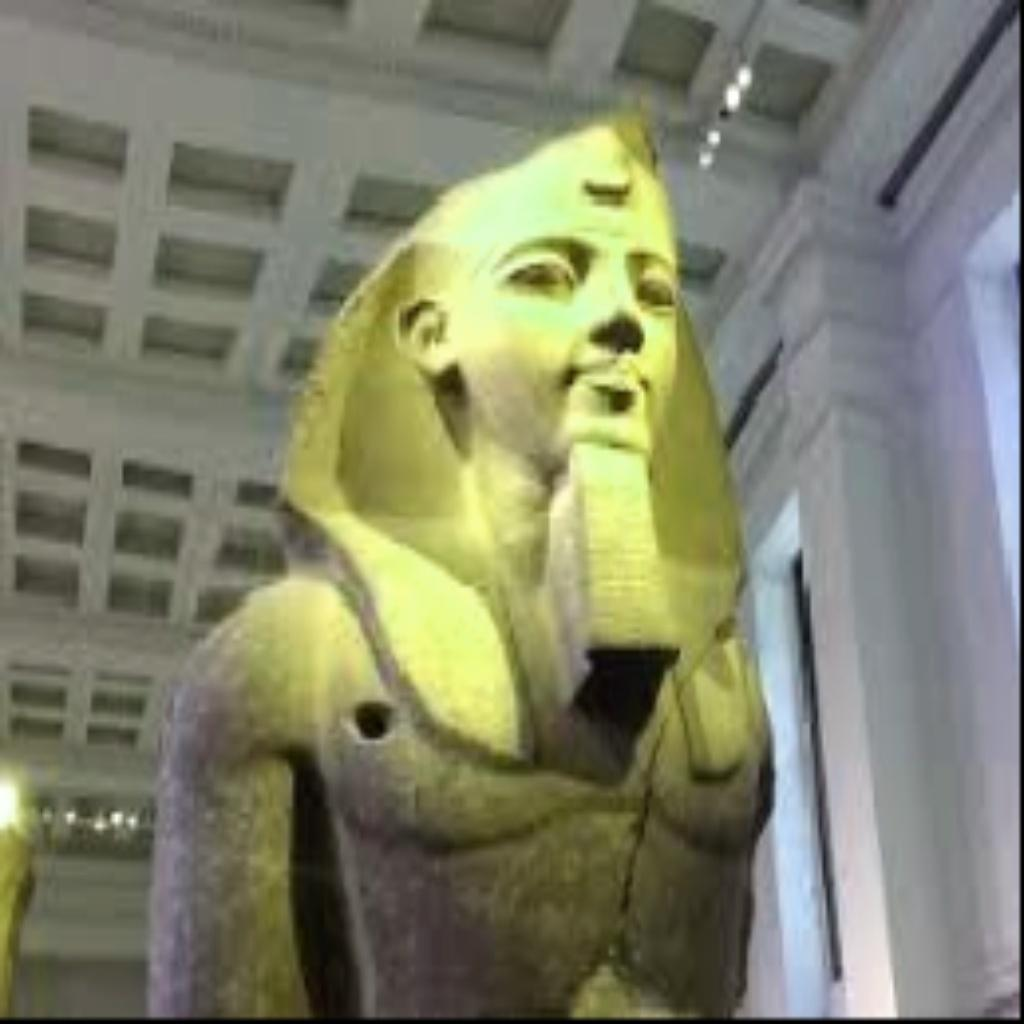bust of Ramesses II: (142, 100, 779, 1014)
